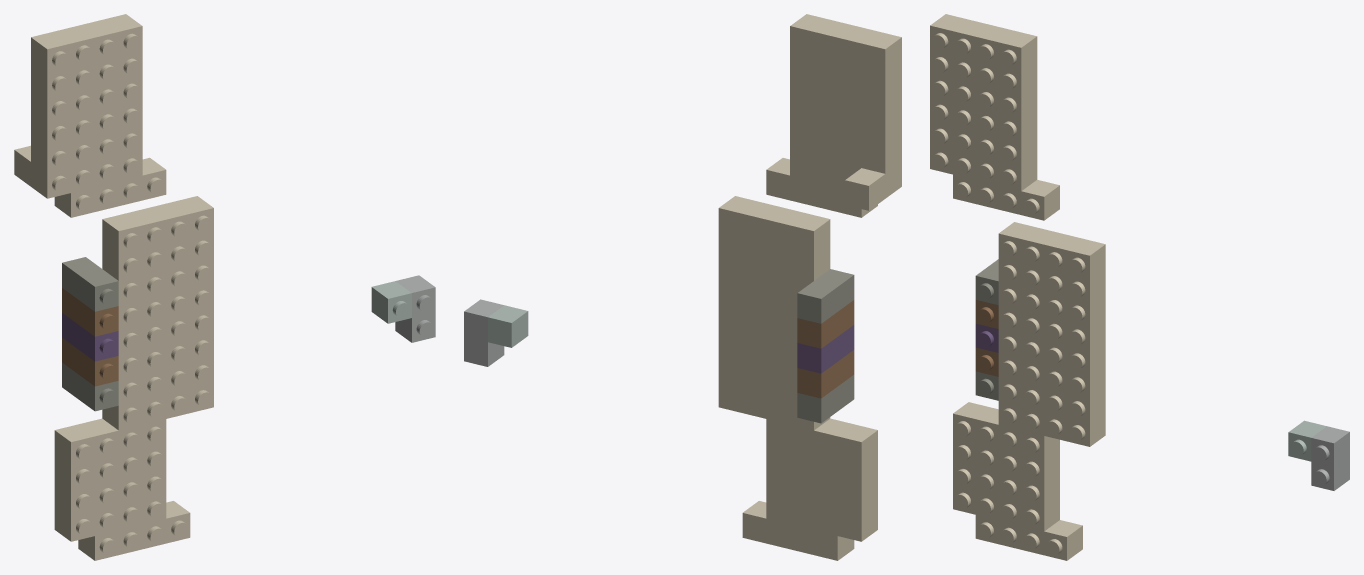
File: full.glb
3 renders of one model, left to right at view 1: azimuth 30°, elevation 25°; view 2: azimuth 150°, elevation 25°; view 3: azimuth 330°, elevation 25°, orthographic. The views are drawn at different scales.
Parts seen in each view (by area): view 1: world; view 2: world; view 3: world.
Boxes of the visible parts, x1,y1,x2,y2 form: world: [14, 14, 435, 560]; world: [464, 14, 901, 560]; world: [930, 14, 1349, 560].
Size of the model in its own units: 136 by 168 by 21.
